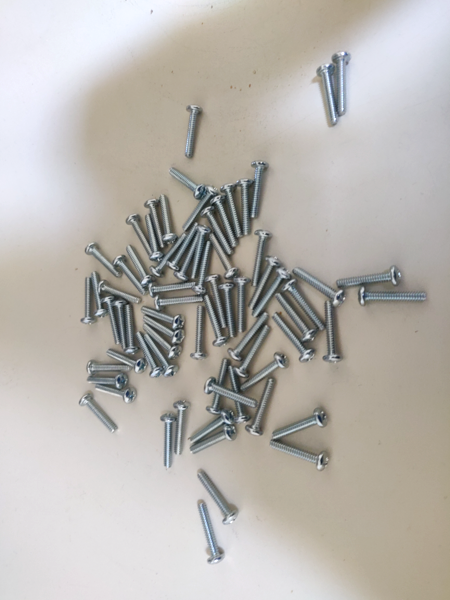longscrew: (197, 471, 242, 523), (240, 355, 288, 398), (276, 293, 319, 341), (234, 327, 276, 376), (293, 262, 344, 302), (224, 314, 267, 361), (273, 315, 315, 363), (285, 279, 327, 327), (250, 269, 289, 319), (266, 442, 332, 471), (245, 378, 278, 435), (196, 502, 226, 562), (271, 414, 328, 445), (247, 256, 279, 310), (203, 378, 258, 408), (81, 394, 117, 436), (174, 226, 201, 282), (203, 205, 233, 255), (209, 196, 239, 246), (338, 267, 408, 288), (323, 302, 347, 363), (191, 426, 236, 458), (187, 412, 232, 444), (333, 51, 356, 112), (150, 233, 184, 274), (359, 288, 428, 308), (169, 224, 199, 270), (187, 184, 217, 230), (319, 64, 341, 125), (146, 333, 177, 376), (246, 162, 270, 217), (206, 359, 229, 416), (145, 322, 181, 358), (84, 242, 119, 279), (228, 363, 248, 425), (204, 289, 225, 347), (143, 315, 185, 343), (210, 235, 238, 277), (137, 332, 162, 378), (169, 167, 206, 198), (207, 272, 226, 330), (250, 230, 270, 285), (154, 289, 206, 310), (128, 217, 154, 259), (233, 177, 252, 234), (114, 257, 143, 294), (147, 278, 199, 298), (157, 191, 177, 243), (145, 198, 165, 249), (96, 281, 142, 303), (106, 348, 146, 373), (190, 224, 208, 279), (196, 241, 214, 295), (221, 184, 240, 234), (192, 305, 208, 362), (185, 106, 201, 163), (161, 413, 177, 469), (175, 399, 191, 455), (127, 243, 149, 283), (142, 306, 187, 325), (143, 211, 160, 259), (80, 275, 96, 325), (234, 278, 248, 332), (223, 284, 237, 338), (92, 269, 107, 319), (102, 296, 117, 346), (115, 299, 130, 349), (124, 305, 139, 355), (81, 374, 126, 390), (86, 362, 131, 377), (95, 386, 140, 401)
